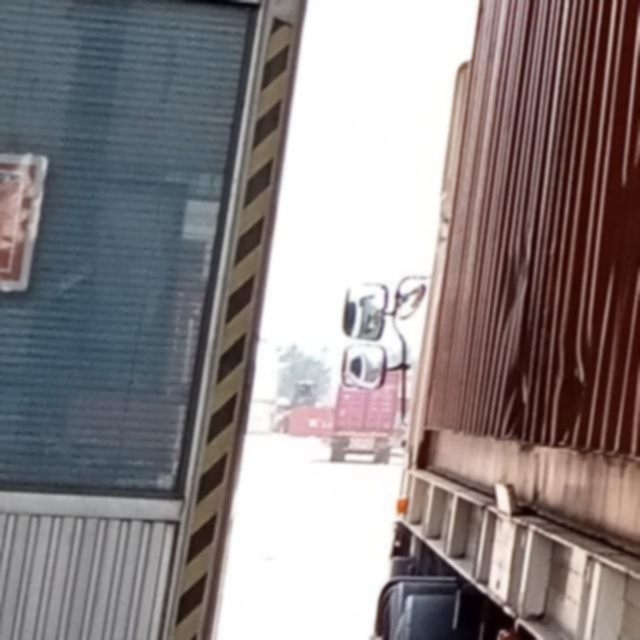Dent: (542, 327, 611, 445), (490, 338, 535, 436), (603, 182, 640, 298), (496, 253, 535, 324)
